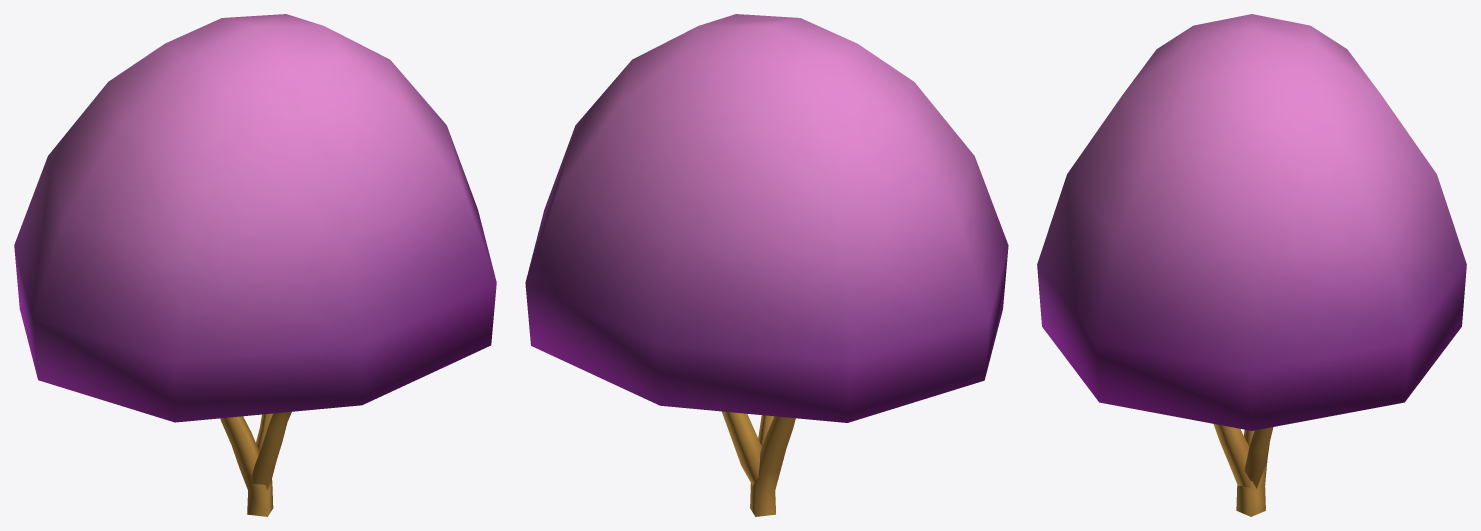
File: MLD_ 2_ Tree_ Pink.fbx
3 views of the same model, side by side, from view 1: azimuth 30°, elevation 25°; view 2: azimuth 150°, elevation 25°; view 3: azimuth 270°, elevation 25° (orthographic).
Parts seen in each view (by area): view 1: G_2_Tree_Pink; view 2: G_2_Tree_Pink; view 3: G_2_Tree_Pink.
Part boxes in pixels (bbox=[...]): G_2_Tree_Pink: bbox=[14, 14, 496, 516]; G_2_Tree_Pink: bbox=[525, 14, 1008, 516]; G_2_Tree_Pink: bbox=[1037, 14, 1466, 516].
Size of the model in its own units: 303 by 317 by 258.
